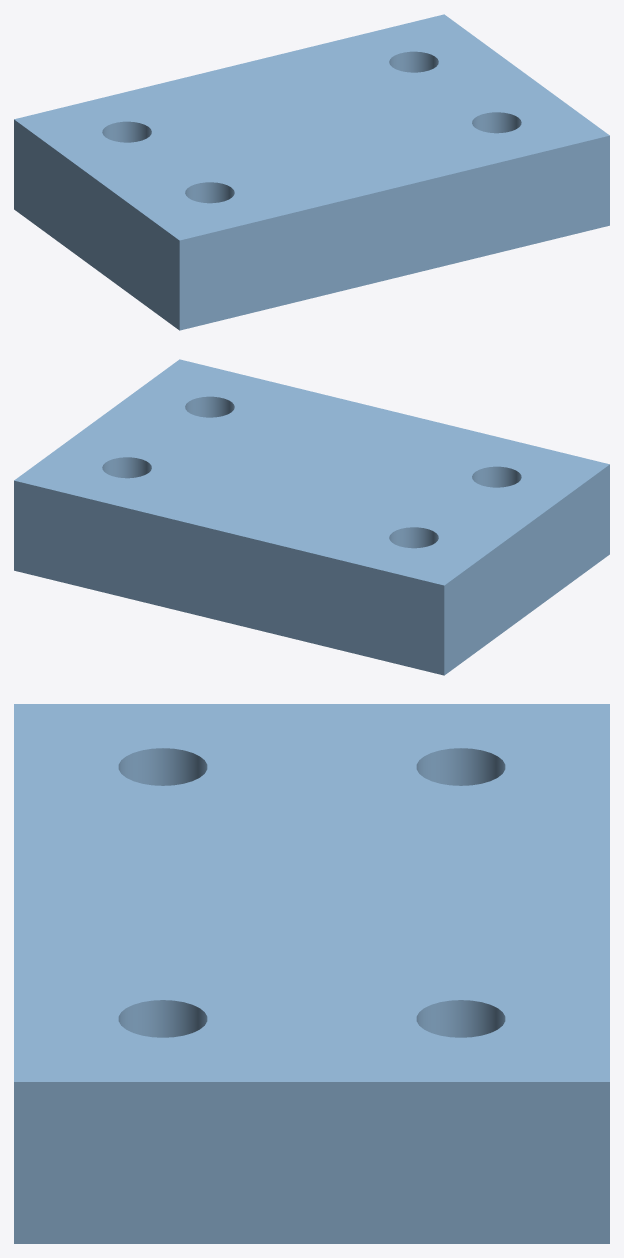
The model's file is design.glb.
3 renders of one model, top to bottom at view 1: azimuth 30°, elevation 25°; view 2: azimuth 150°, elevation 25°; view 3: azimuth 270°, elevation 25°, orthographic. The views are drawn at different scales.
Parts seen in each view (by area): view 1: SOLID; view 2: SOLID; view 3: SOLID.
Boxes of the visible parts, <box> form: SOLID: <box>14,14,609,330</box>; SOLID: <box>14,359,609,675</box>; SOLID: <box>14,704,609,1243</box>.
Size of the model in its own units: 60 by 12 by 40.
